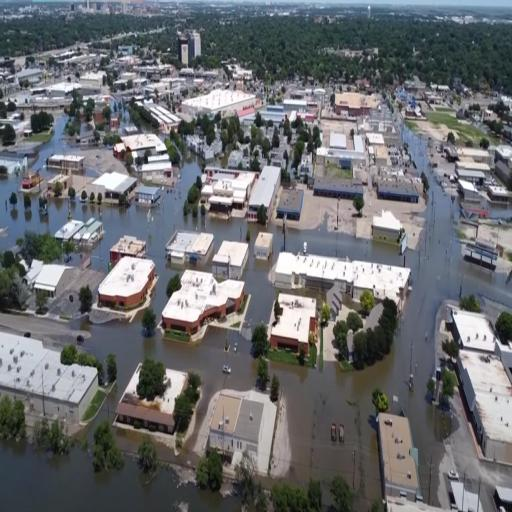flood: (272, 135, 512, 508), (0, 437, 237, 511), (92, 160, 198, 322), (87, 320, 256, 419), (285, 226, 404, 265), (0, 179, 68, 246), (246, 222, 284, 324), (37, 113, 66, 166), (253, 230, 275, 263)
house: (445, 296, 512, 470), (449, 308, 512, 466), (202, 374, 288, 479), (0, 334, 100, 421), (162, 268, 248, 357), (278, 247, 413, 303), (116, 361, 196, 446), (373, 404, 428, 512), (269, 286, 320, 366), (97, 252, 158, 316), (182, 84, 256, 132), (200, 164, 254, 225), (114, 131, 174, 183), (26, 262, 78, 313), (248, 162, 282, 230), (56, 214, 105, 253), (90, 170, 136, 210), (165, 230, 214, 266), (213, 236, 250, 282), (314, 172, 364, 204), (464, 229, 499, 273), (444, 139, 492, 171), (376, 172, 418, 208), (371, 206, 405, 249), (464, 230, 499, 271), (177, 25, 203, 73), (335, 92, 374, 118), (47, 148, 86, 172), (19, 163, 45, 199), (135, 178, 162, 210), (252, 228, 275, 265), (488, 181, 510, 209), (459, 178, 480, 205), (0, 154, 17, 177), (330, 133, 346, 152)
